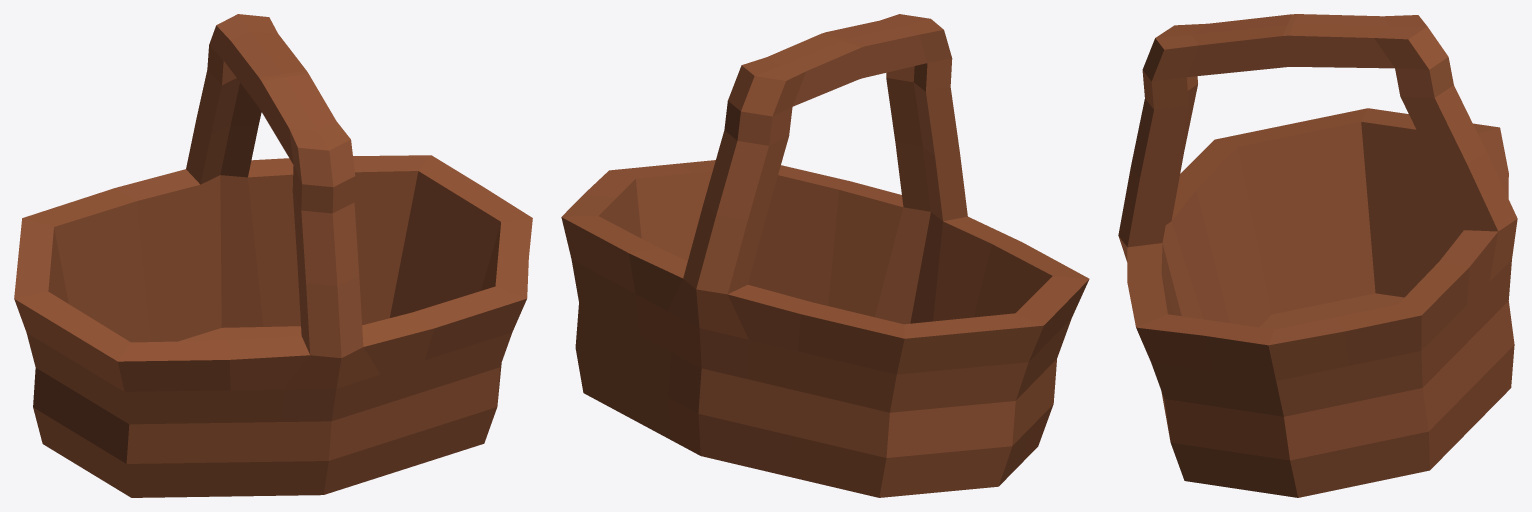
File: koszyczek.gltf
3 views of the same model, side by side, from view 1: azimuth 30°, elevation 25°; view 2: azimuth 150°, elevation 25°; view 3: azimuth 270°, elevation 25° (orthographic). The views are drawn at different scales.
Visible parts, largest first — view 1: Cylinder.001; view 2: Cylinder.001; view 3: Cylinder.001.
Part boxes in pixels (<box>): Cylinder.001: <box>14,14,532,497</box>; Cylinder.001: <box>561,14,1089,497</box>; Cylinder.001: <box>1118,14,1517,497</box>.
Bounding box in the file's own units: 1.71 × 1.32 × 1.21.
